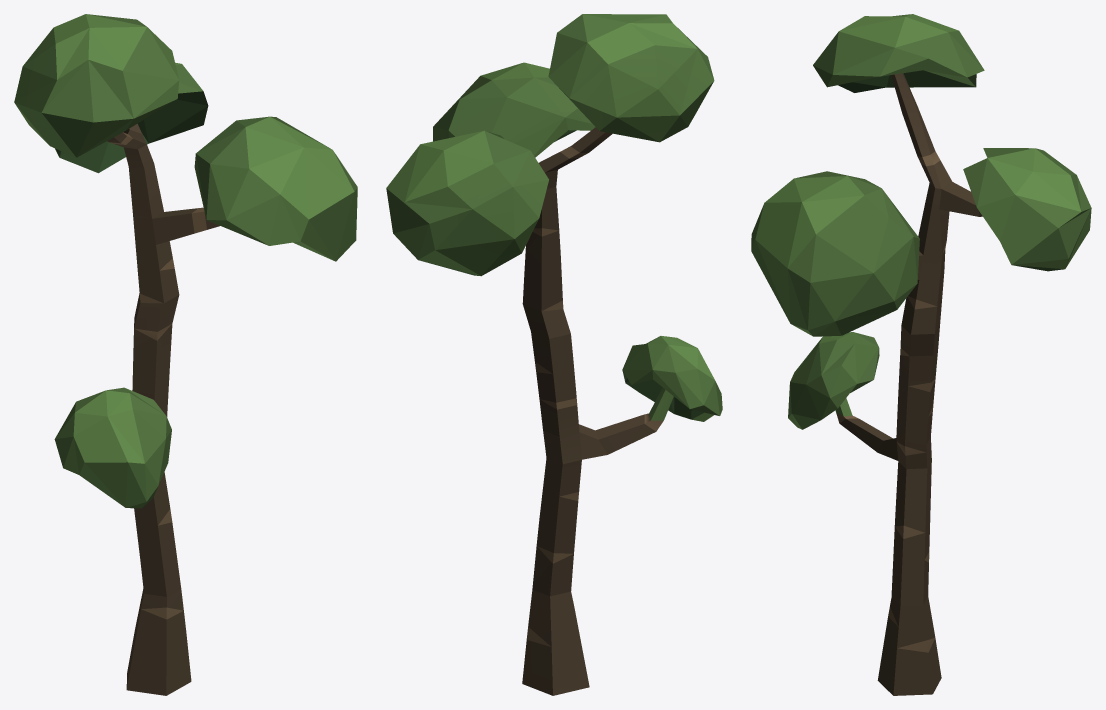
Rendered from SM_Env_TreeBirch_03.fbx.
3 views of the same model, side by side, from view 1: azimuth 30°, elevation 25°; view 2: azimuth 150°, elevation 25°; view 3: azimuth 270°, elevation 25° (orthographic). The views are drawn at different scales.
Visible parts, largest first — view 1: SM_Env_TreeBirch_03; view 2: SM_Env_TreeBirch_03; view 3: SM_Env_TreeBirch_03.
Boxes of the visible parts, x1=… form: SM_Env_TreeBirch_03: x1=14, y1=14, x2=357, y2=695; SM_Env_TreeBirch_03: x1=386, y1=14, x2=722, y2=695; SM_Env_TreeBirch_03: x1=751, y1=14, x2=1091, y2=695.
Bounding box in the file's own units: 0.0237 × 0.0532 × 0.0258.
1 material, 1 textured.
